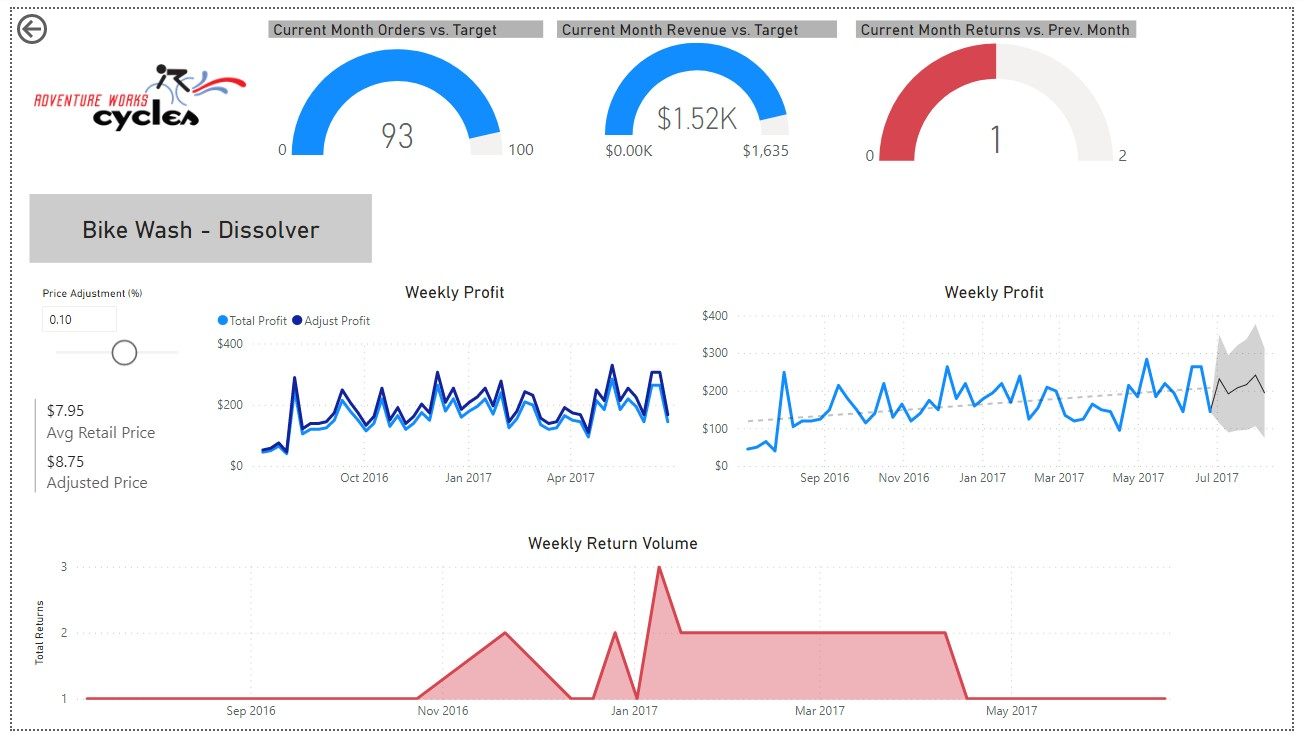

What the dashboard file says about the page in this screenshot:
{"tool":"powerbi","page":{"name":"Product Detail","canvas":[1280,720],"ordinal":1},"visuals":[{"type":"image","box":[17.8,15.6,224.4,146.7],"z":0},{"type":"lineChart","title":"Weekly Profit","fields":{"Y":["AW_Sales.Total Profit"],"Category":["AW_Calendar_Lookup.Start_of_Week"]},"box":[685.6,272.2,594.4,215.6],"z":1000},{"type":"stackedAreaChart","title":"Weekly Return Volume","fields":{"Category":["AW_Calendar_Lookup.Start_of_Week"],"Y":["AW_Returns.Total Returns"]},"box":[17.8,523.3,1166.7,196.7],"z":2000},{"type":"gauge","title":"Current Month Orders vs. Target","fields":{"Y":["AW_Sales.Total Orders"],"MaxValue":["AW_Sales.Order Target"]},"box":[256.7,11.1,275.6,151.1],"z":3000},{"type":"gauge","title":"Current Month Revenue vs. Target","fields":{"MaxValue":["AW_Sales.Revenue Target"],"Y":["AW_Sales.Revenue"]},"box":[545.6,11.1,280,151.1],"z":4000},{"type":"gauge","title":"Current Month Returns vs. Prev. Month","fields":{"Y":["AW_Returns.Total Returns"],"MaxValue":["AW_Returns.Prev Month Returns"]},"box":[843.3,11.1,281.1,151.1],"z":5000},{"type":"card","fields":{"Values":["Min(AW_Product_Lookup.ProductName)"]},"box":[17.8,184.4,342.2,68.9],"z":6000},{"type":"actionButton","box":[0,0,100,40],"z":7000},{"type":"slicer","fields":{"Values":["Price Adjustment (%).Price Adjustment (%)"]},"box":[17.8,272.2,171.1,113.3],"z":7001},{"type":"multiRowCard","fields":{"Values":["AW_Product_Lookup.Avg Retail Price","AW_Product_Lookup.Adjusted Price"]},"box":[17.8,385.6,171.1,137.8],"z":7002},{"type":"lineChart","title":"Weekly Profit","fields":{"Y":["AW_Sales.Total Profit","AW_Sales.Adjust Profit"],"Category":["AW_Calendar_Lookup.Start_of_Week"]},"box":[200,272.2,485.6,215.6],"z":7003}]}

Visuals, with their boxes in screenshot pixels (x1, y1, x2, y2), scaled from the page's 1280x720 canvas onto the 1305x738 screenshot:
image: {"left": 18, "top": 16, "right": 247, "bottom": 166}
"Weekly Profit" lineChart: {"left": 699, "top": 279, "right": 1304, "bottom": 500}
"Weekly Return Volume" stackedAreaChart: {"left": 18, "top": 536, "right": 1208, "bottom": 737}
"Current Month Orders vs. Target" gauge: {"left": 262, "top": 11, "right": 543, "bottom": 166}
"Current Month Revenue vs. Target" gauge: {"left": 556, "top": 11, "right": 842, "bottom": 166}
"Current Month Returns vs. Prev. Month" gauge: {"left": 860, "top": 11, "right": 1146, "bottom": 166}
card - Min(AW_Product_Lookup.ProductName): {"left": 18, "top": 189, "right": 367, "bottom": 260}
actionButton: {"left": 0, "top": 0, "right": 102, "bottom": 41}
slicer - Price Adjustment (%).Price Adjustment (%): {"left": 18, "top": 279, "right": 193, "bottom": 395}
multiRowCard - AW_Product_Lookup.Avg Retail Price x AW_Product_Lookup.Adjusted Price: {"left": 18, "top": 395, "right": 193, "bottom": 536}
"Weekly Profit" lineChart: {"left": 204, "top": 279, "right": 699, "bottom": 500}
